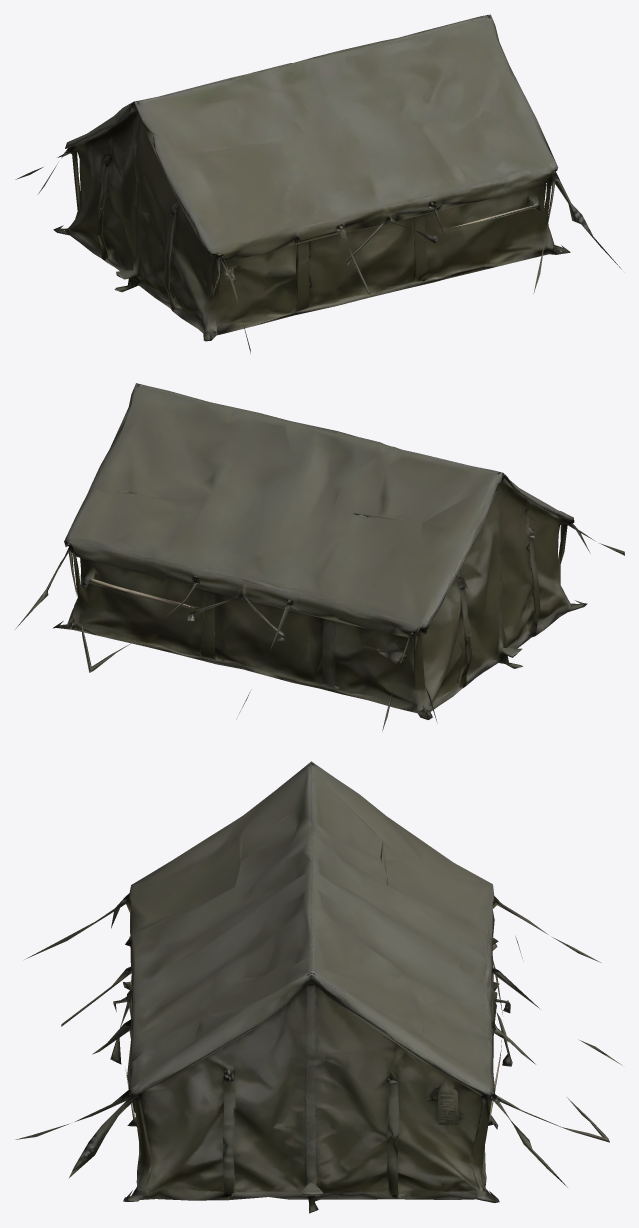
Rendered from tent.glb.
3 renders of one model, top to bottom at view 1: azimuth 30°, elevation 25°; view 2: azimuth 150°, elevation 25°; view 3: azimuth 270°, elevation 25°, orthographic. The views are drawn at different scales.
Visible parts, largest first — view 1: tripo_node_c222fa02-3624-4d52-a675-dfca87a14e01; view 2: tripo_node_c222fa02-3624-4d52-a675-dfca87a14e01; view 3: tripo_node_c222fa02-3624-4d52-a675-dfca87a14e01.
Part boxes in pixels (x1,y1,x2,y2): tripo_node_c222fa02-3624-4d52-a675-dfca87a14e01: (15, 14, 621, 353); tripo_node_c222fa02-3624-4d52-a675-dfca87a14e01: (15, 383, 624, 730); tripo_node_c222fa02-3624-4d52-a675-dfca87a14e01: (15, 761, 622, 1213).
Size of the model in its own units: 0.9347 by 0.4135 by 1.
1 material, 1 textured.
